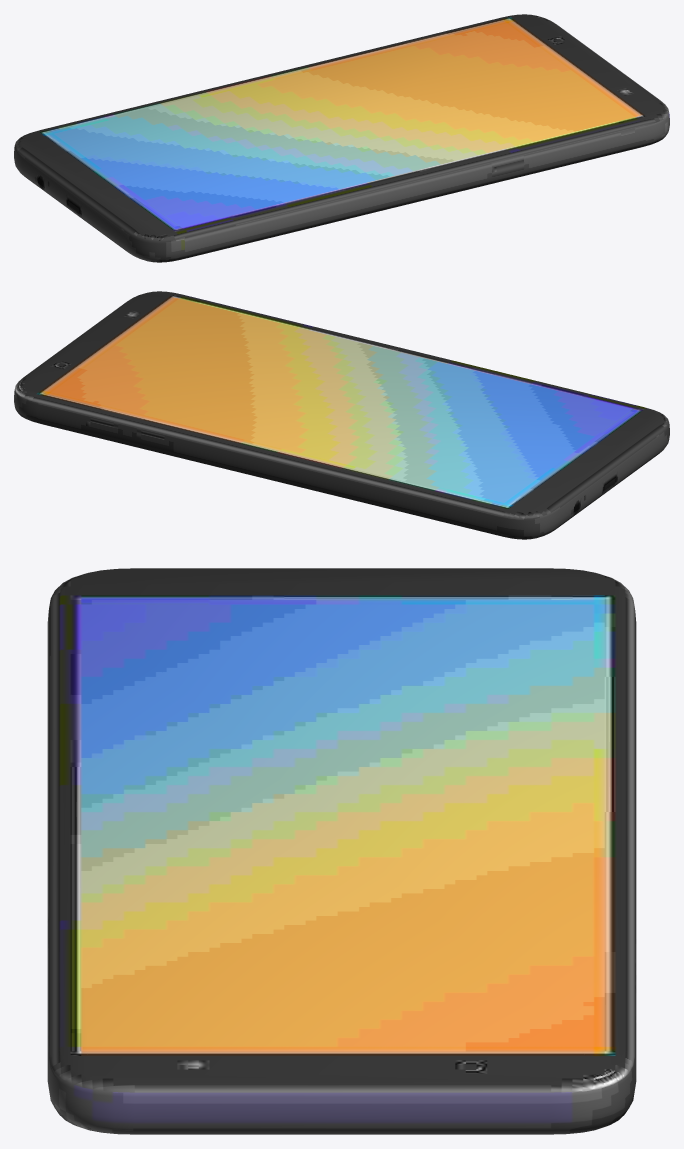
The model's file is phone.dae.
3 views of the same model, one above another, from view 1: azimuth 30°, elevation 25°; view 2: azimuth 150°, elevation 25°; view 3: azimuth 270°, elevation 25° (orthographic). The views are drawn at different scales.
Visible parts, largest first — view 1: J8; view 2: J8; view 3: J8.
Part boxes in pixels (bbox=[...]): J8: bbox=[14, 14, 669, 262]; J8: bbox=[14, 291, 669, 539]; J8: bbox=[47, 568, 636, 1134].
Bounding box in the file's own units: 16 × 7.6 × 0.8.
1 material, 1 textured.
